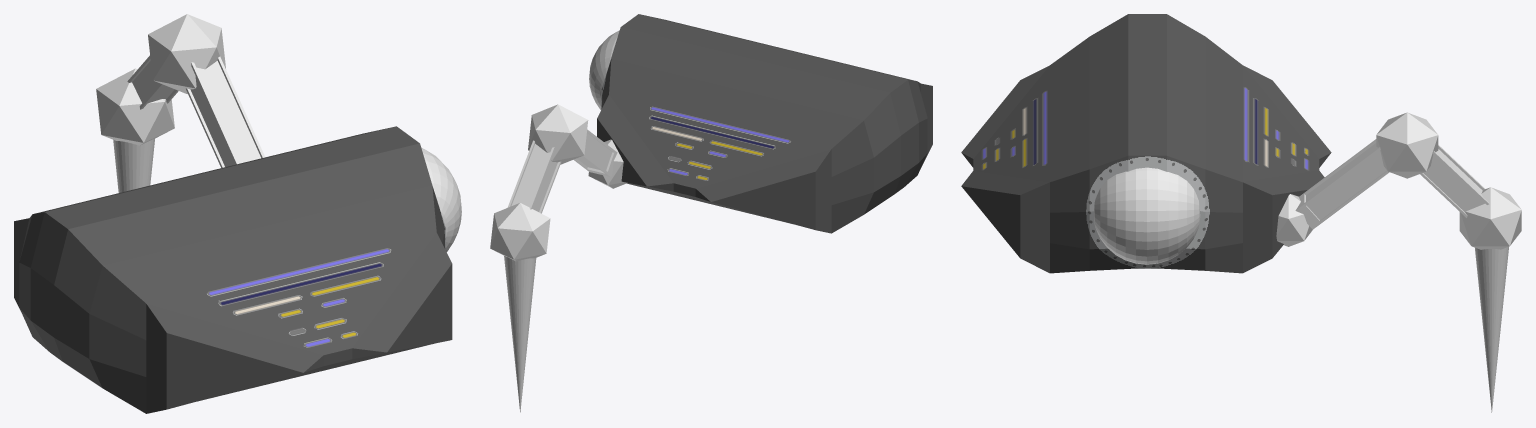
The model's file is spiderbot 1.fbx.
3 views of the same model, side by side, from view 1: azimuth 30°, elevation 25°; view 2: azimuth 150°, elevation 25°; view 3: azimuth 270°, elevation 25° (orthographic). The views are drawn at different scales.
Visible parts, largest first — view 1: Body, Cone, Legmid1.001, legroot, Eye; view 2: Body, Cone, Legmid1.001, legroot, Eye; view 3: Body, Eye, Cone, Legmid1.001, legroot.
Boxes of the visible parts, x1=… form: Body: x1=14, y1=126, x2=452, y2=413; Cone: x1=96, y1=68, x2=174, y2=192; Legmid1.001: x1=127, y1=14, x2=225, y2=109; legroot: x1=186, y1=56, x2=264, y2=167; Eye: x1=421, y1=148, x2=461, y2=251; Body: x1=597, y1=14, x2=932, y2=233; Cone: x1=490, y1=202, x2=550, y2=412; Legmid1.001: x1=507, y1=104, x2=588, y2=213; legroot: x1=573, y1=129, x2=627, y2=188; Eye: x1=589, y1=30, x2=619, y2=109; Body: x1=961, y1=14, x2=1331, y2=273; Eye: x1=1094, y1=167, x2=1200, y2=264; Cone: x1=1459, y1=187, x2=1521, y2=412; Legmid1.001: x1=1376, y1=112, x2=1488, y2=217; legroot: x1=1276, y1=139, x2=1389, y2=246.
Bounding box in the file's own units: 584 × 498 × 838.
